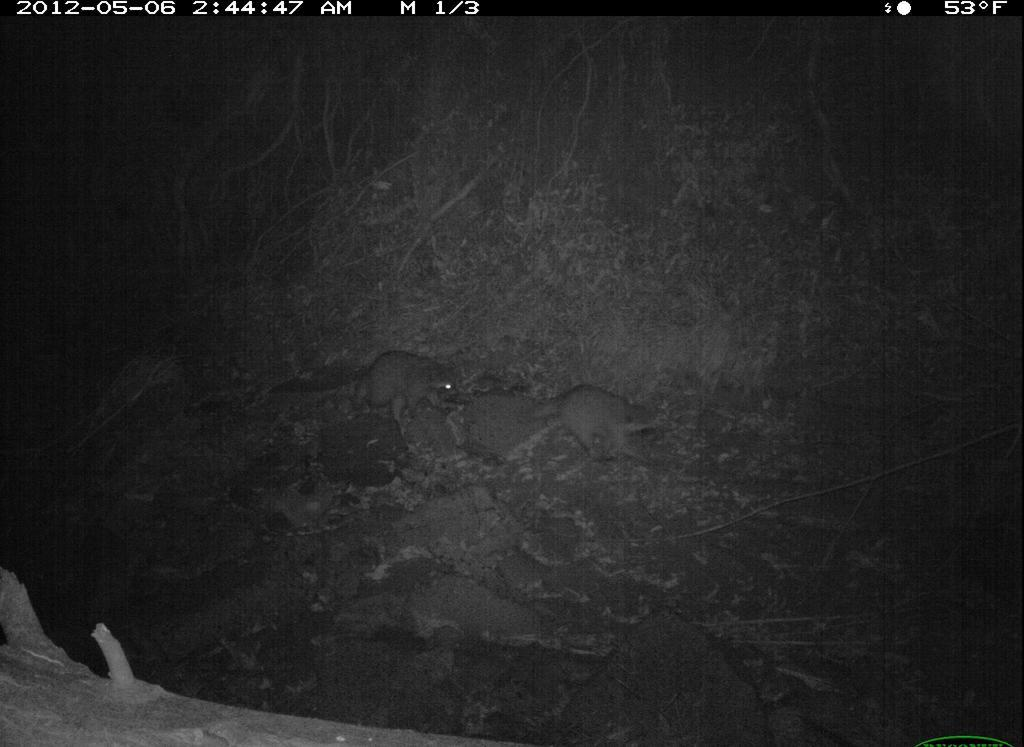raccoon: (523, 370, 669, 481), (331, 330, 486, 429)
